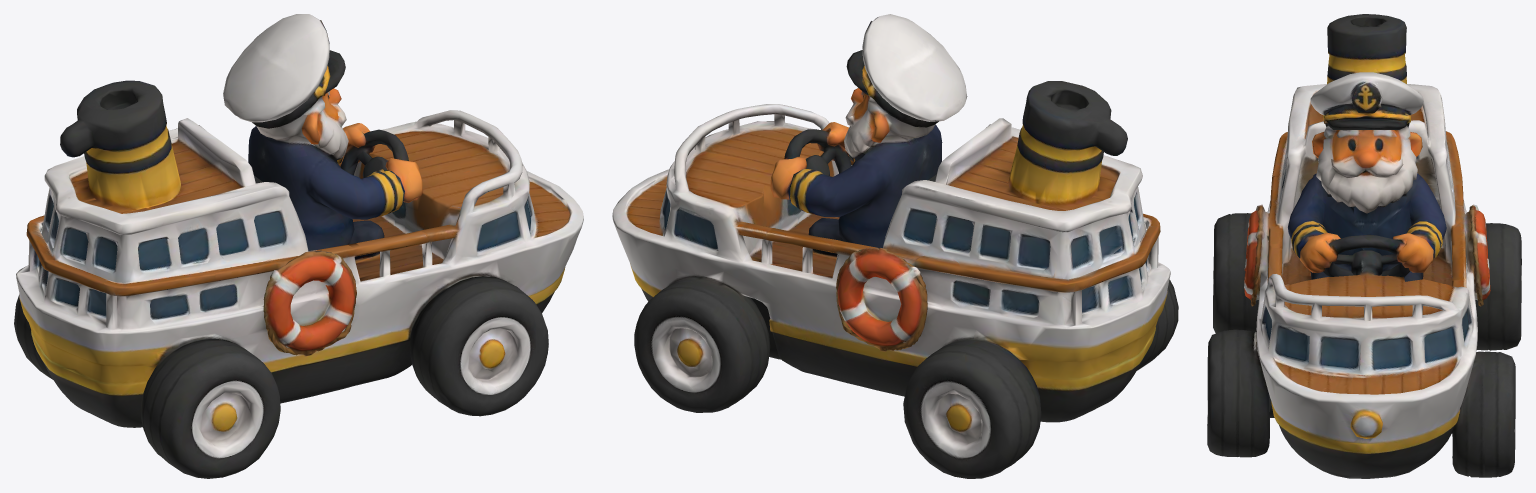
File: k_kaptan.glb
The picture shows the model from 3 angles, left to right: view 1: azimuth 30°, elevation 25°; view 2: azimuth 150°, elevation 25°; view 3: azimuth 270°, elevation 25°; orthographic projection. The views are drawn at different scales.
Parts seen in each view (by area): view 1: tripo_node_8fc1f233-7684-4fd6-8732-fbe540d942d0; view 2: tripo_node_8fc1f233-7684-4fd6-8732-fbe540d942d0; view 3: tripo_node_8fc1f233-7684-4fd6-8732-fbe540d942d0.
Part boxes in pixels (left/top/right/bottom): tripo_node_8fc1f233-7684-4fd6-8732-fbe540d942d0: left=14, top=14, right=583, bottom=478; tripo_node_8fc1f233-7684-4fd6-8732-fbe540d942d0: left=612, top=14, right=1178, bottom=478; tripo_node_8fc1f233-7684-4fd6-8732-fbe540d942d0: left=1207, top=14, right=1521, bottom=478.
Bounding box in the file's own units: 0.9811 × 0.6585 × 0.5463.
1 material, 1 textured.
